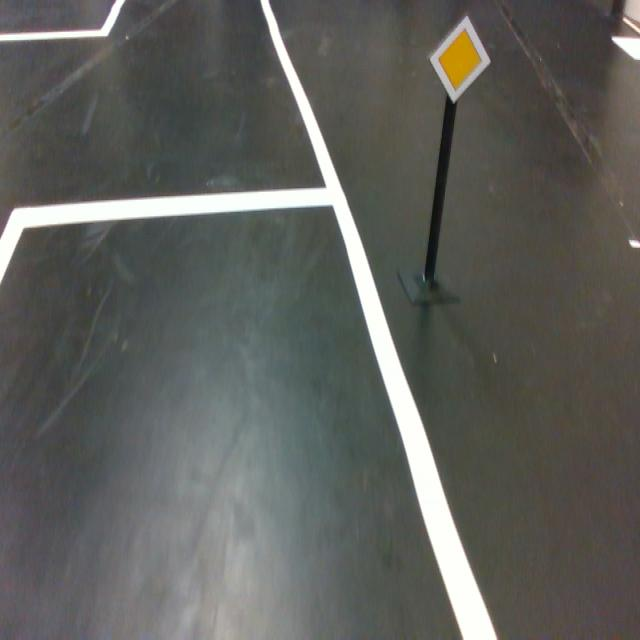priority-sign: (429, 15, 491, 104)
